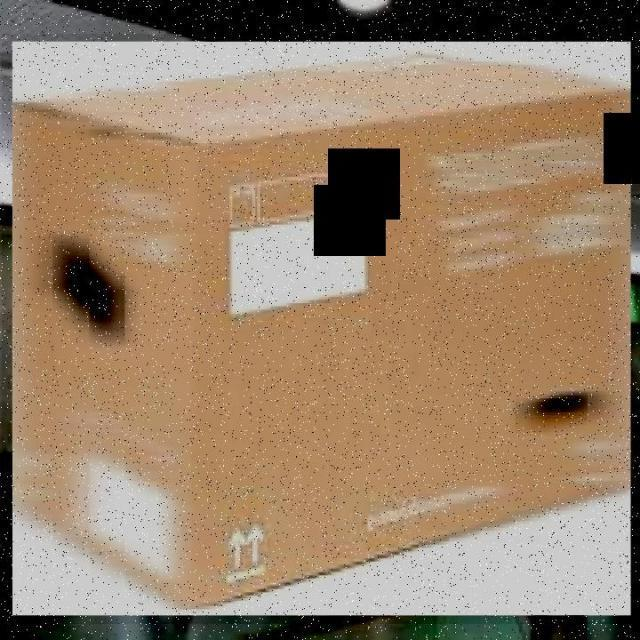box: (2, 34, 640, 624)
